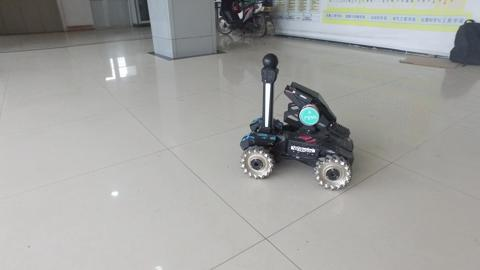bag: (448, 18, 479, 64)
chariot: (239, 52, 354, 190)
